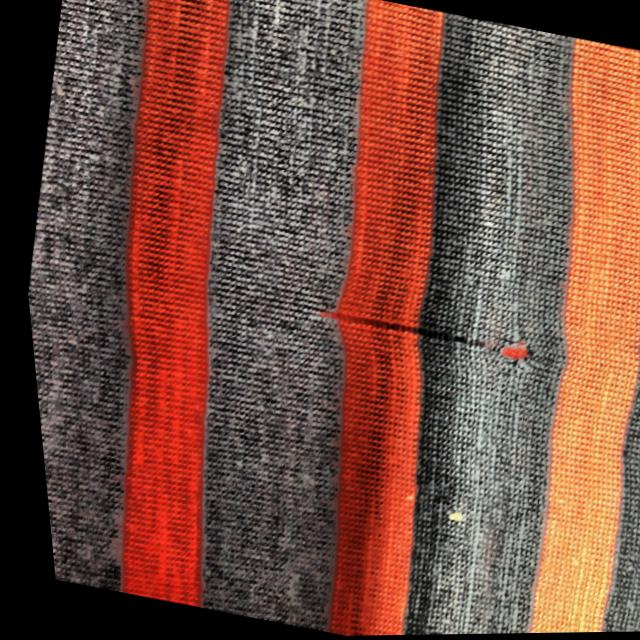Hole: (422, 497, 463, 535)
Stitch: (268, 287, 540, 377)
